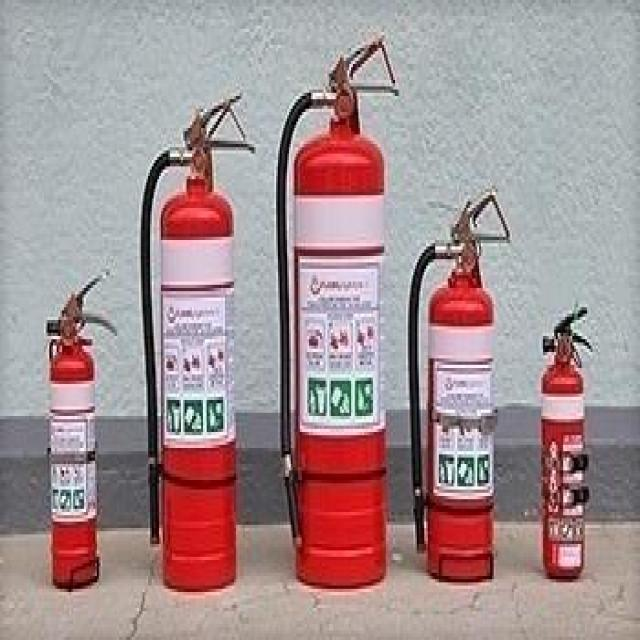fire_extinguisher: (270, 28, 400, 590), (134, 81, 257, 596), (403, 182, 511, 589), (38, 264, 119, 594), (534, 292, 592, 582)
